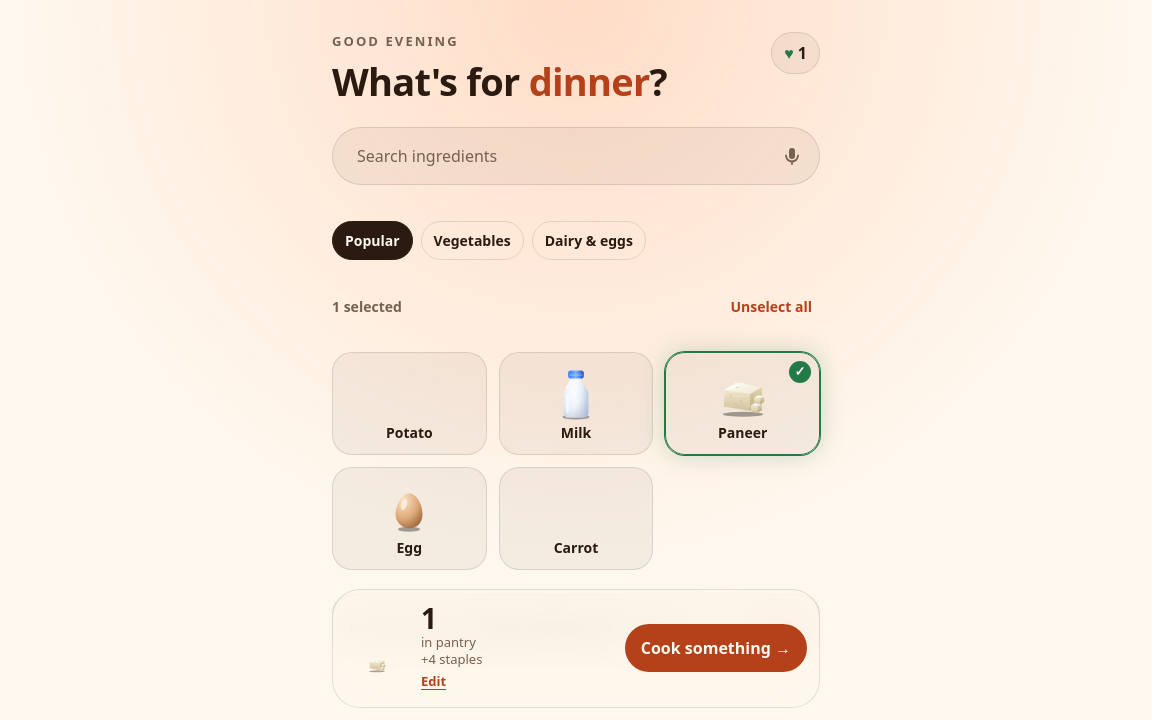
it: the pantry links to the cookbook once something is saved
Expected: the link "Your cookbook" is not shown
Click the link named "Your cookbook: 1 saved" at (796, 53), box x1=771 y1=32 x2=820 y2=74
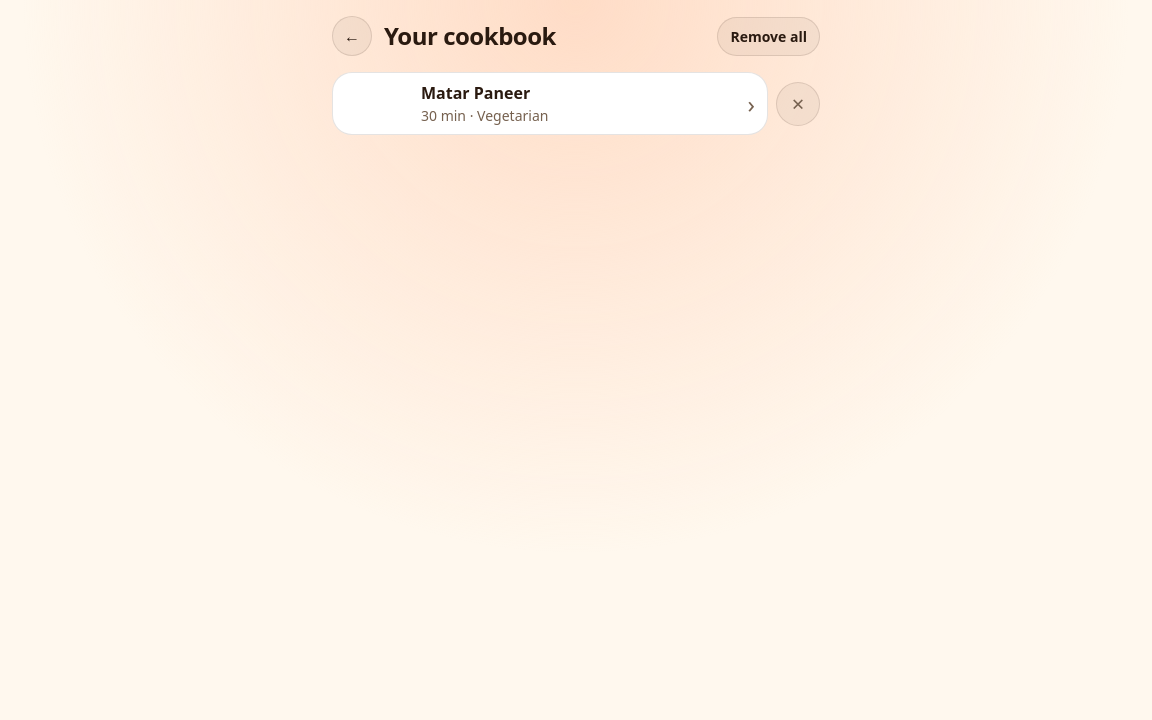
Result: the heading "Your cookbook" is shown at x1=384 y1=22 x2=556 y2=50
